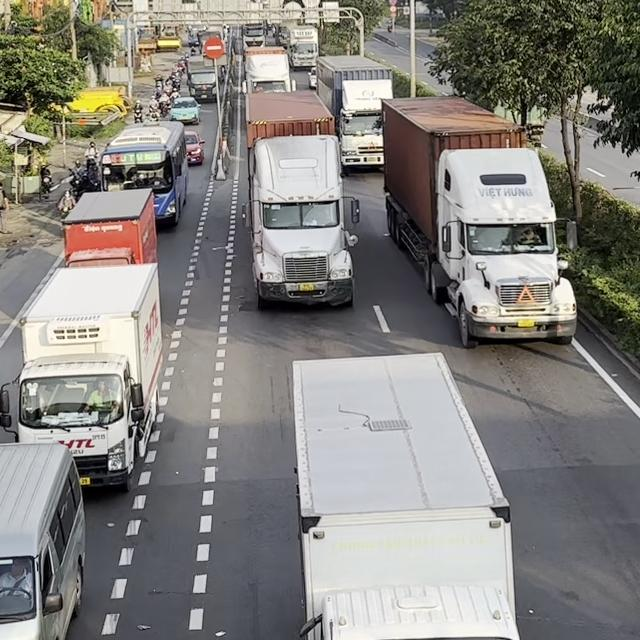bus: (98, 119, 189, 228)
car: (168, 96, 200, 125), (183, 130, 205, 165), (307, 66, 317, 89)
motorcycle: (57, 189, 75, 219), (41, 174, 52, 194), (132, 106, 143, 123)
truck: (291, 351, 522, 639), (381, 94, 578, 348), (0, 260, 163, 492), (242, 89, 360, 308), (0, 441, 86, 639), (311, 54, 393, 173), (61, 186, 158, 267), (243, 46, 296, 94), (187, 53, 229, 102), (286, 25, 318, 70)
